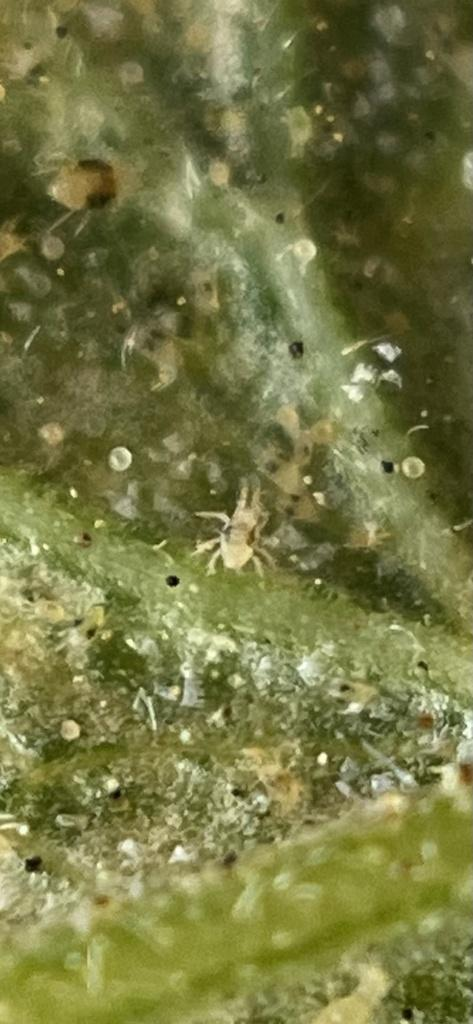tiny_pests: (16, 126, 163, 260), (167, 454, 299, 600)
